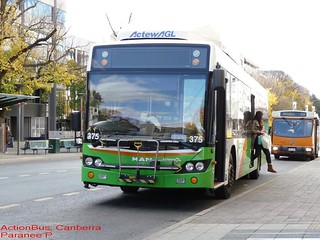bus: (80, 36, 271, 198), (269, 110, 320, 161)
